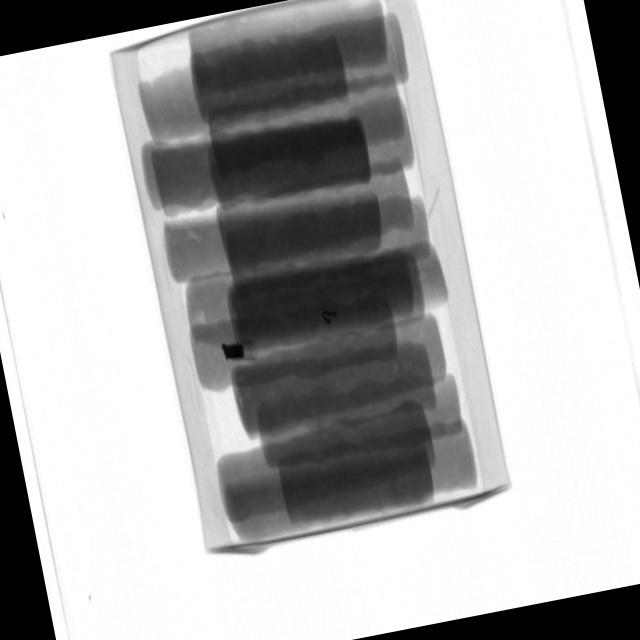ym: (222, 340, 246, 362), (323, 310, 340, 326)
